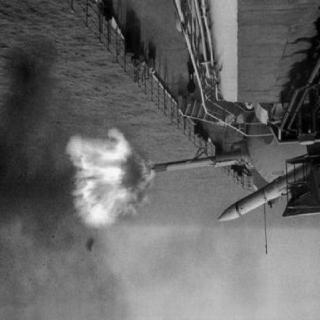Fire: (58, 136, 161, 238)
